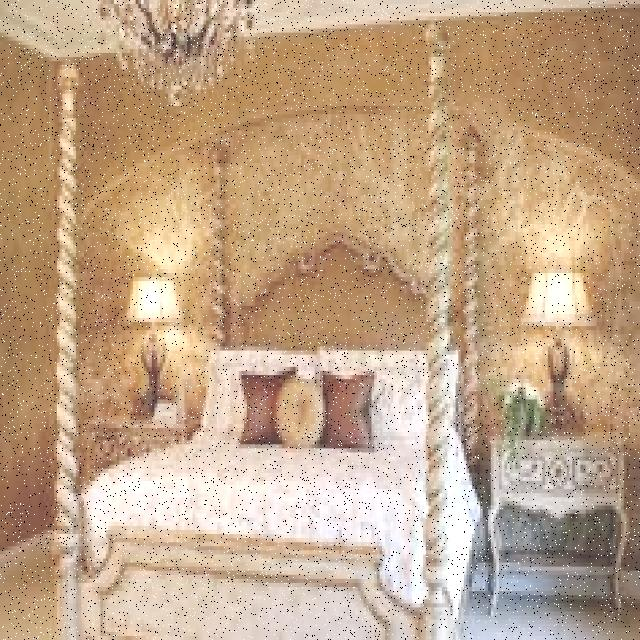bed: (89, 339, 458, 539)
